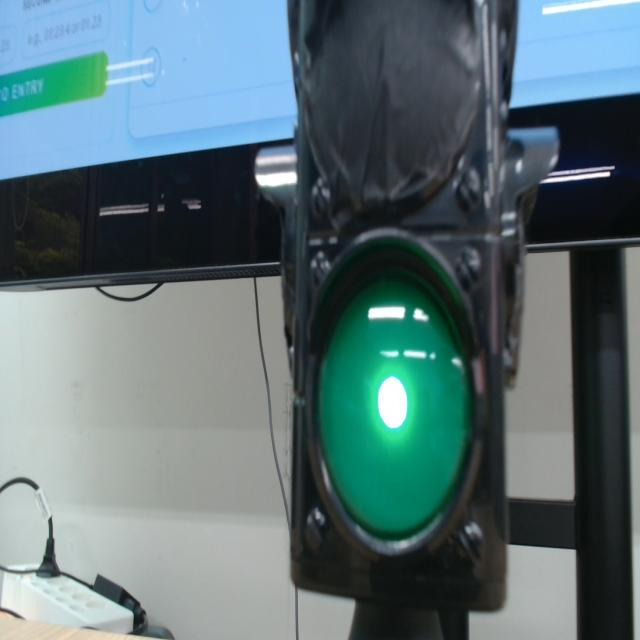green_light: (318, 277, 472, 540), (378, 376, 407, 429)
